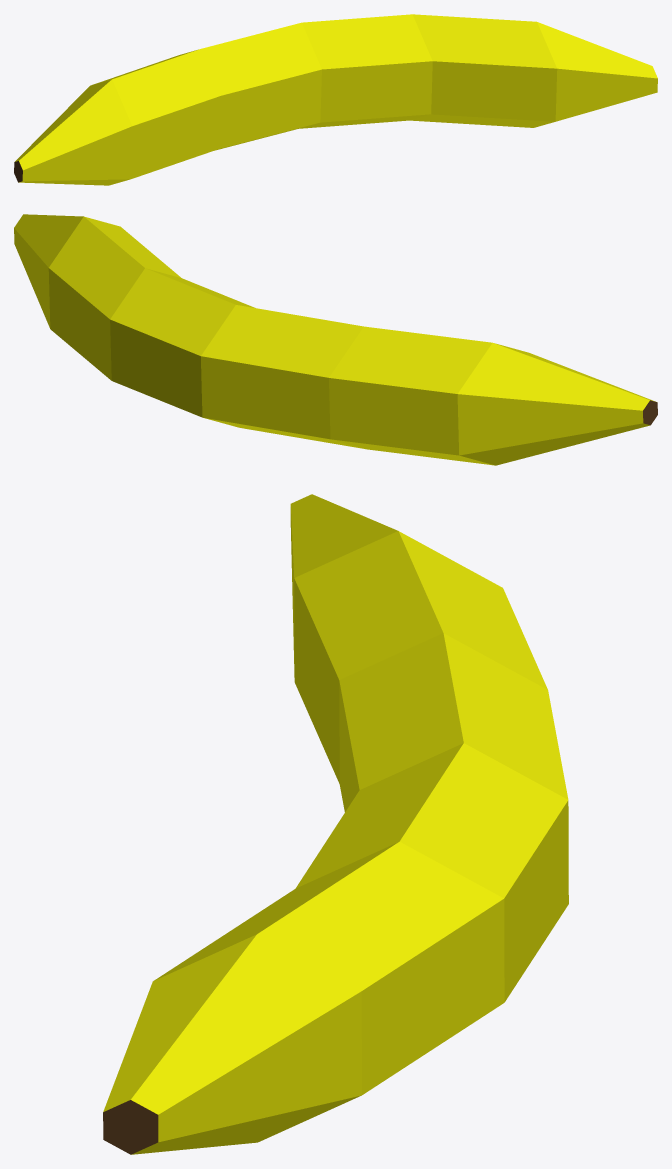
The model's file is Banana.fbx.
3 views of the same model, one above another, from view 1: azimuth 30°, elevation 25°; view 2: azimuth 150°, elevation 25°; view 3: azimuth 270°, elevation 25° (orthographic). The views are drawn at different scales.
Parts seen in each view (by area): view 1: Cylinder; view 2: Cylinder; view 3: Cylinder.
Boxes of the visible parts, x1,y1,x2,y2 form: Cylinder: (14,14,657,185); Cylinder: (14,214,657,465); Cylinder: (103,494,568,1154).
Size of the model in its own units: 251 by 47.56 by 85.64.
